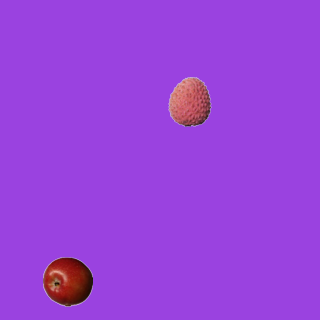Apple Braeburn: (42, 256, 92, 306)
Lychee: (164, 76, 214, 126)
